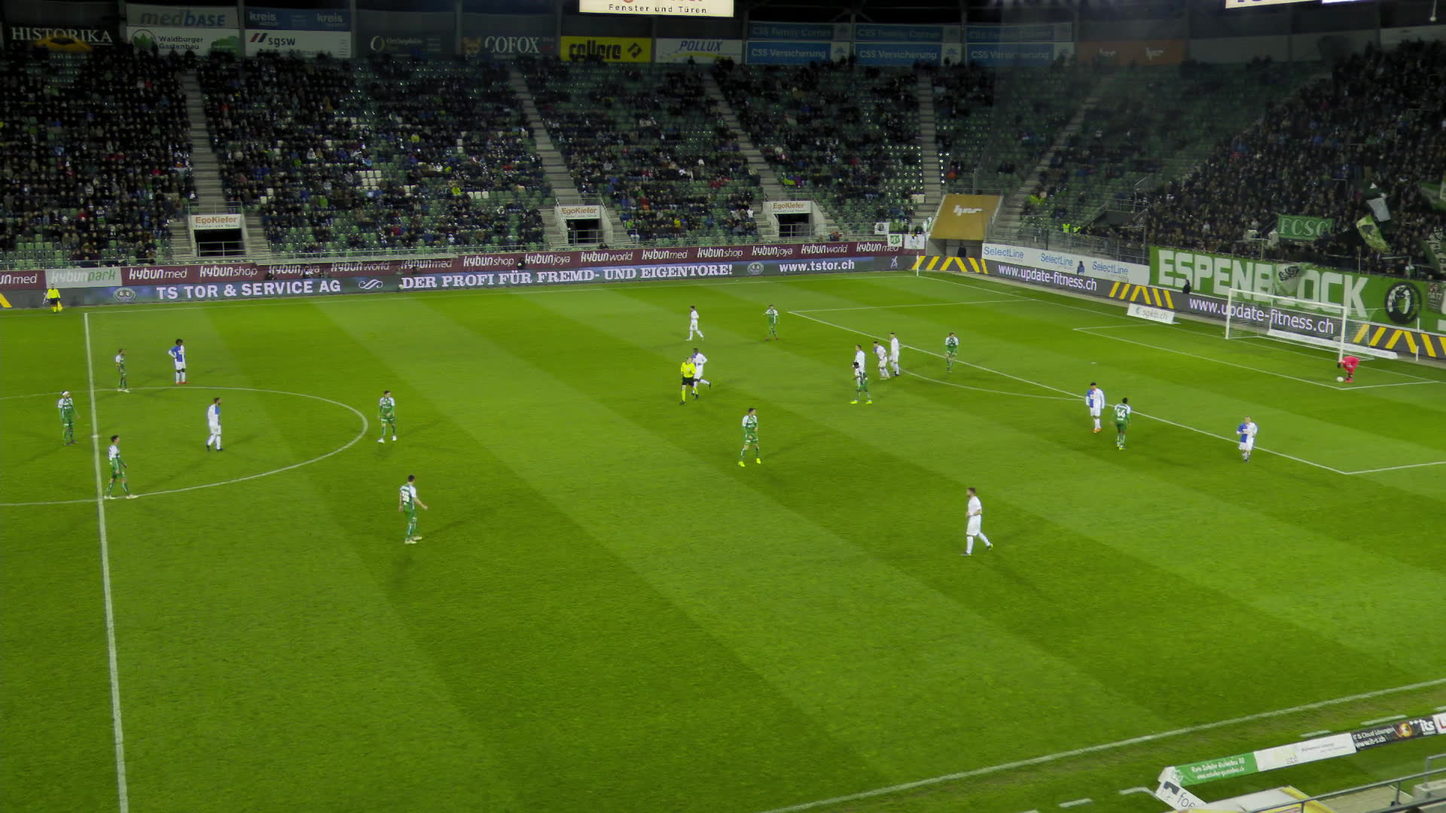ball: (1337, 376, 1342, 382)
player: (396, 475, 430, 545), (1106, 391, 1134, 454), (959, 485, 984, 555), (106, 433, 130, 500), (1231, 406, 1258, 465), (740, 406, 761, 466), (56, 390, 78, 445), (203, 397, 224, 452), (377, 388, 397, 443), (1084, 381, 1105, 433), (852, 360, 876, 405), (685, 300, 709, 344), (690, 346, 712, 394), (884, 330, 905, 379), (846, 343, 866, 393), (167, 338, 188, 385), (872, 336, 893, 382), (943, 329, 960, 377), (762, 304, 779, 342), (1335, 355, 1358, 382), (114, 348, 128, 392)
referee: (677, 358, 696, 403), (46, 282, 62, 312)
